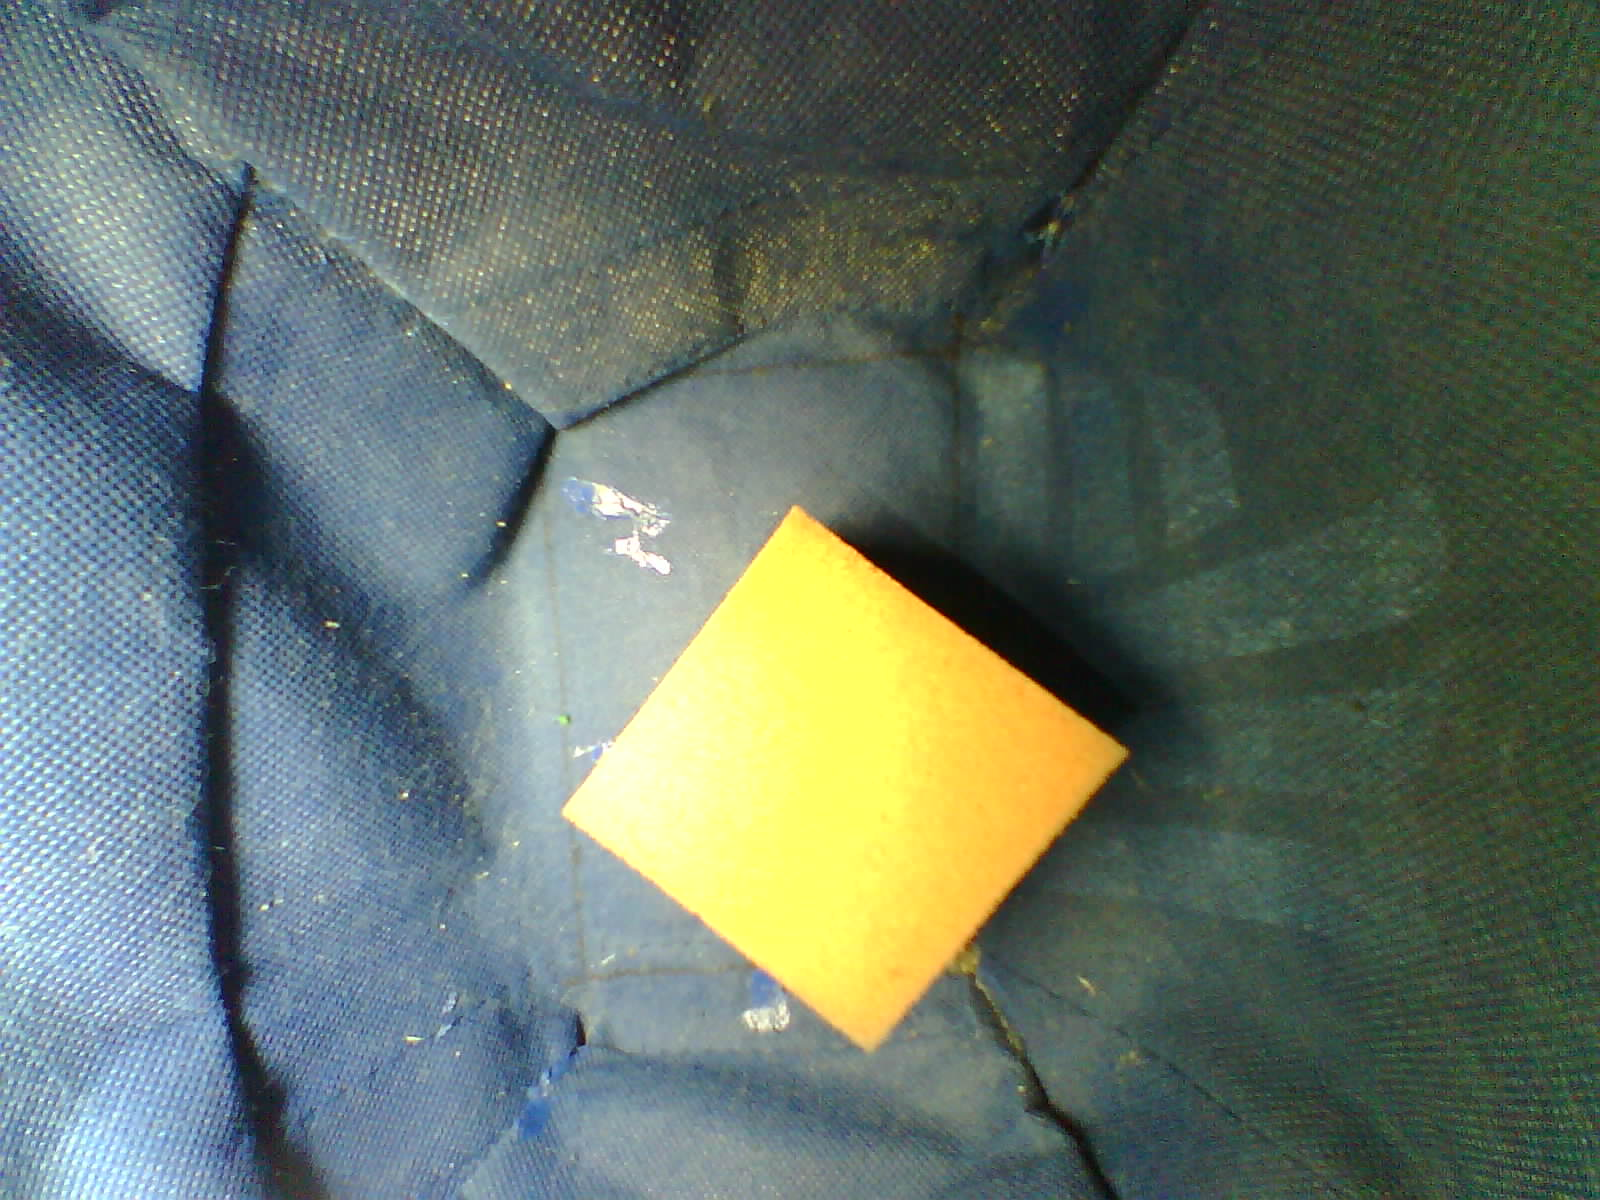cube-soft: (556, 498, 1136, 1079)
